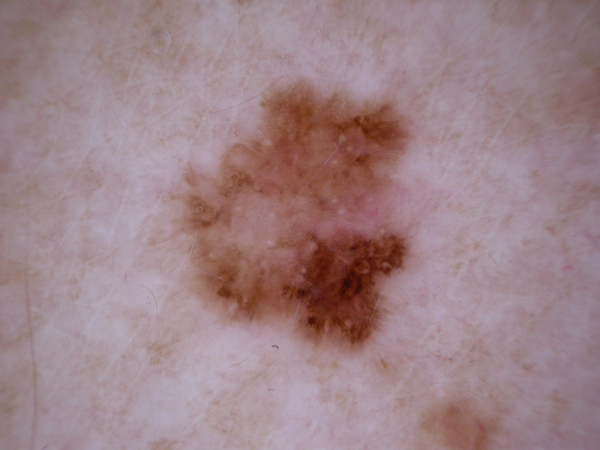Detected Lesion: (177, 75, 418, 350)
